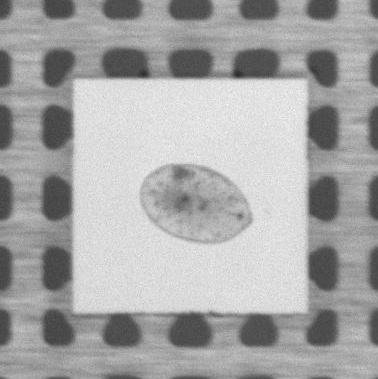DIE_INK: (138, 161, 250, 244)
